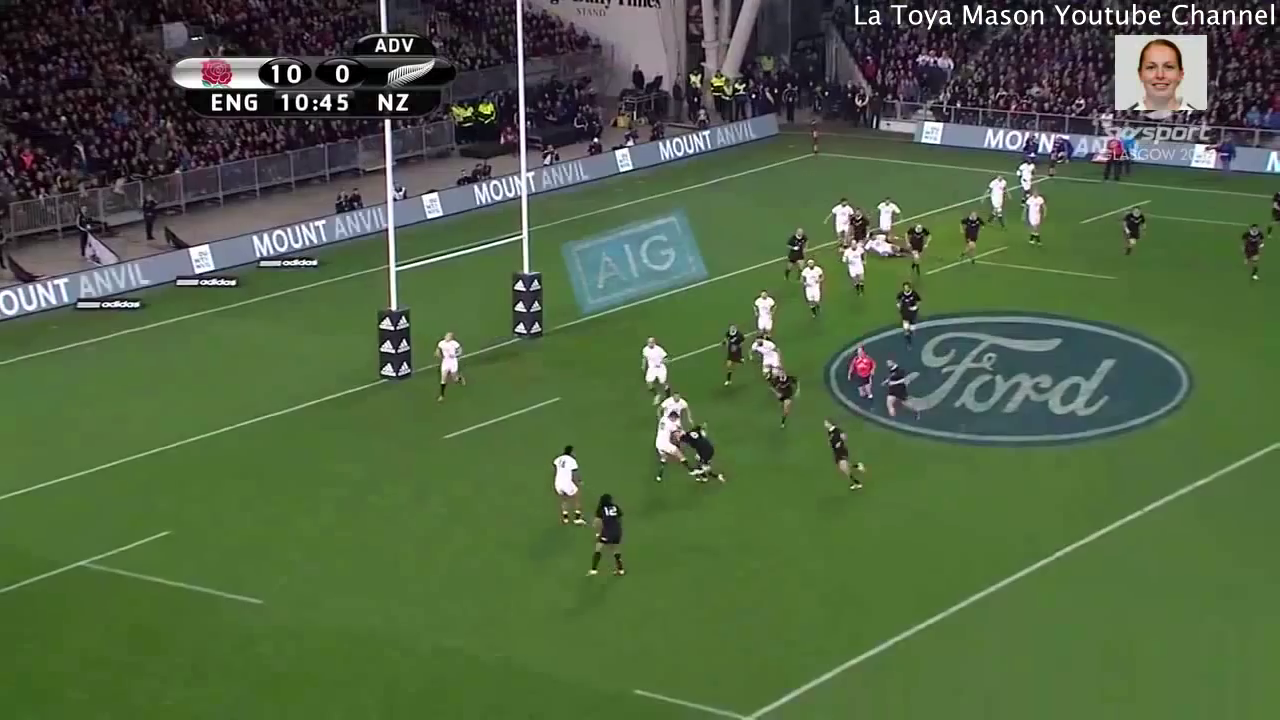player: (541, 436, 594, 544), (424, 323, 480, 412), (819, 413, 877, 496), (579, 488, 629, 583), (670, 419, 728, 493), (870, 355, 927, 423), (629, 327, 676, 404), (649, 411, 689, 494), (885, 272, 926, 349), (1229, 216, 1270, 286), (715, 320, 754, 391), (833, 233, 872, 301), (762, 365, 804, 428), (1112, 200, 1149, 268), (976, 167, 1013, 232), (793, 253, 828, 320), (1012, 184, 1051, 244), (950, 207, 986, 272), (777, 221, 813, 286), (845, 340, 880, 404), (821, 193, 856, 254), (866, 192, 908, 240), (901, 217, 933, 279), (745, 288, 780, 343), (1012, 148, 1040, 211), (843, 204, 878, 247), (748, 331, 780, 378), (652, 387, 689, 420), (1266, 178, 1280, 236)
post: (369, 1, 552, 391)
